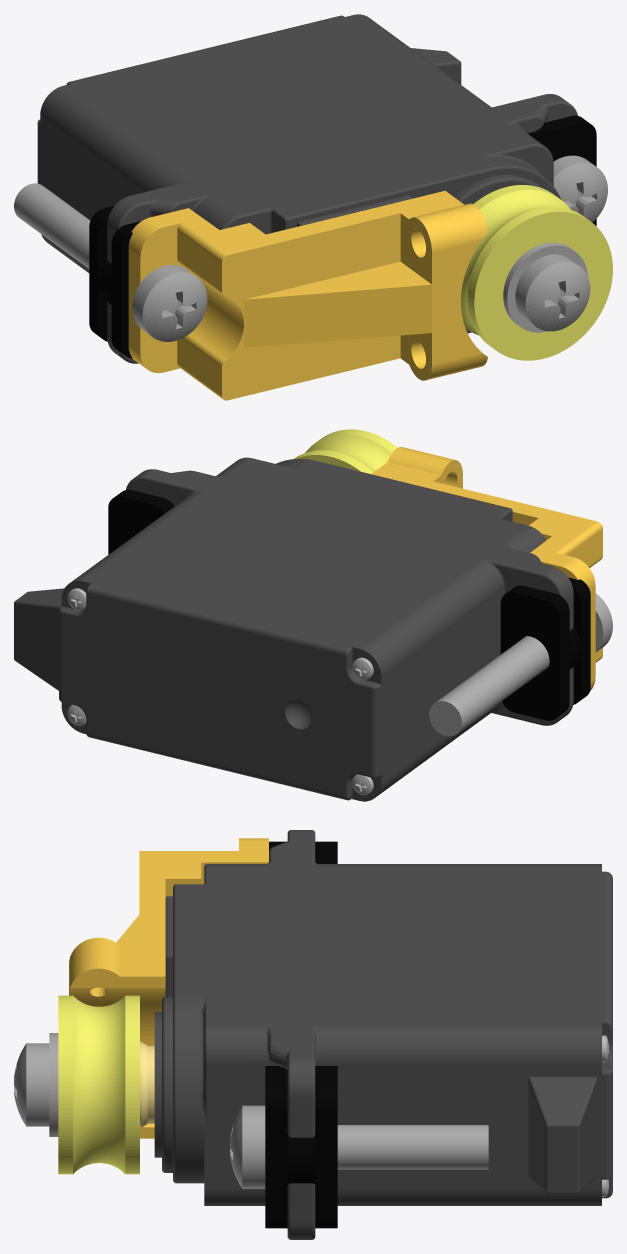
Rendered from motor_assembly_ds238_asm.glb.
3 renders of one model, top to bottom at view 1: azimuth 30°, elevation 25°; view 2: azimuth 150°, elevation 25°; view 3: azimuth 270°, elevation 25°, orthographic. The views are drawn at different scales.
Visible parts, largest first — view 1: Node1, Node4, Node7, Node5, Node6; view 2: Node1, Node6, Node4, Node7, Node5, Node2; view 3: Node1, Node5, Node7, Node4, Node6, Node3.
Boxes of the visible parts, box(x1,y1,x2,y2) form: Node1: box(37, 14, 577, 363); Node4: box(128, 191, 487, 400); Node7: box(14, 155, 607, 341); Node5: box(461, 185, 612, 360); Node6: box(89, 115, 596, 358); Node1: box(14, 457, 573, 801); Node6: box(108, 489, 590, 720); Node4: box(371, 447, 602, 690); Node7: box(429, 593, 612, 736); Node5: box(294, 429, 397, 473); Node2: box(67, 588, 373, 795); Node1: box(154, 830, 612, 1239); Node5: box(58, 995, 139, 1174); Node7: box(14, 1033, 488, 1188); Node4: box(69, 838, 268, 1138); Node6: box(265, 841, 337, 1228); Node3: box(140, 1041, 154, 1127).
Size of the model in its own units: 41.3 by 13.22 by 40.24.
